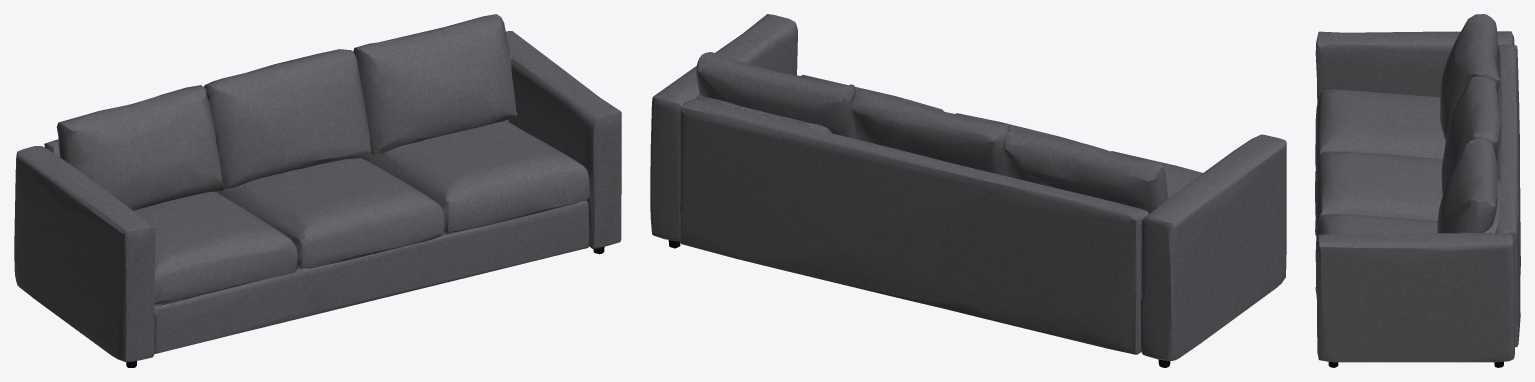
The model's file is finnala_sofa_gunnared_medium_gray.glb.
3 views of the same model, side by side, from view 1: azimuth 30°, elevation 25°; view 2: azimuth 150°, elevation 25°; view 3: azimuth 270°, elevation 25° (orthographic). The views are drawn at different scales.
Visible parts, largest first — view 1: ProcessedMeshNode; view 2: ProcessedMeshNode; view 3: ProcessedMeshNode.
Part boxes in pixels (x1=…): ProcessedMeshNode: x1=14, y1=14, x2=621, y2=367; ProcessedMeshNode: x1=650, y1=14, x2=1286, y2=367; ProcessedMeshNode: x1=1315, y1=14, x2=1520, y2=367.
Size of the model in its own units: 2.43 by 0.8431 by 0.9774.
Materials: 1 (1 with a texture image).
